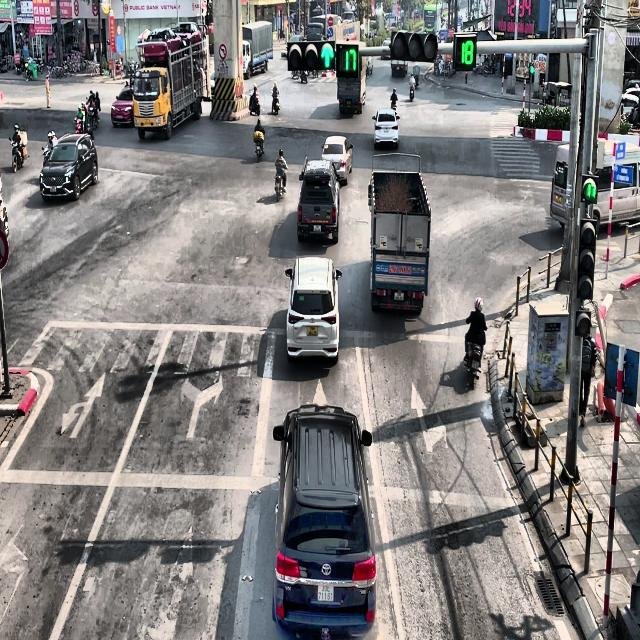lisence_plate: (316, 581, 334, 603), (394, 289, 406, 302), (306, 325, 318, 337), (312, 223, 322, 234)
